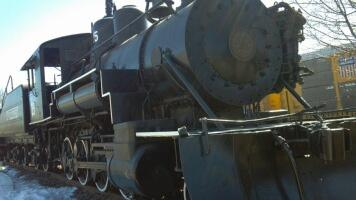Train: (2, 1, 356, 199)
